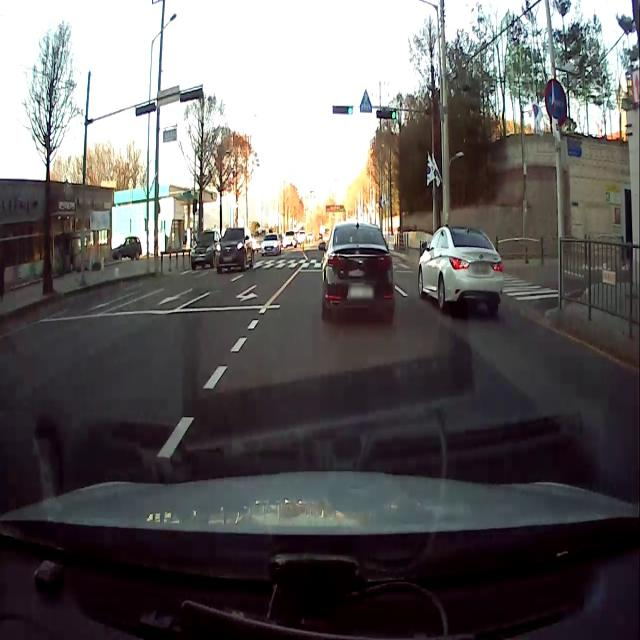Green Light: (348, 106, 353, 116), (391, 110, 396, 120)
